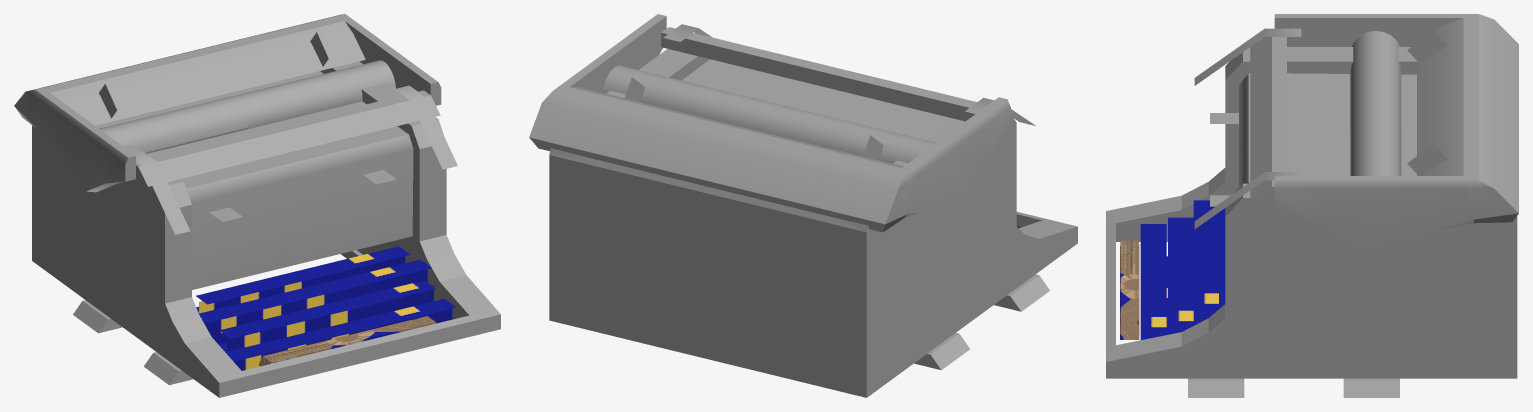
File: Typewriter.fbx
3 renders of one model, left to right at view 1: azimuth 30°, elevation 25°; view 2: azimuth 150°, elevation 25°; view 3: azimuth 270°, elevation 25°, orthographic. The views are drawn at different scales.
Visible parts, largest first — view 1: lp_export; view 2: lp_export; view 3: lp_export.
Part boxes in pixels (x1=…): lp_export: x1=14, y1=14, x2=500, y2=397; lp_export: x1=529, y1=14, x2=1077, y2=397; lp_export: x1=1106, y1=14, x2=1518, y2=397.
Bounding box in the file's own units: 441 × 279 × 455.
